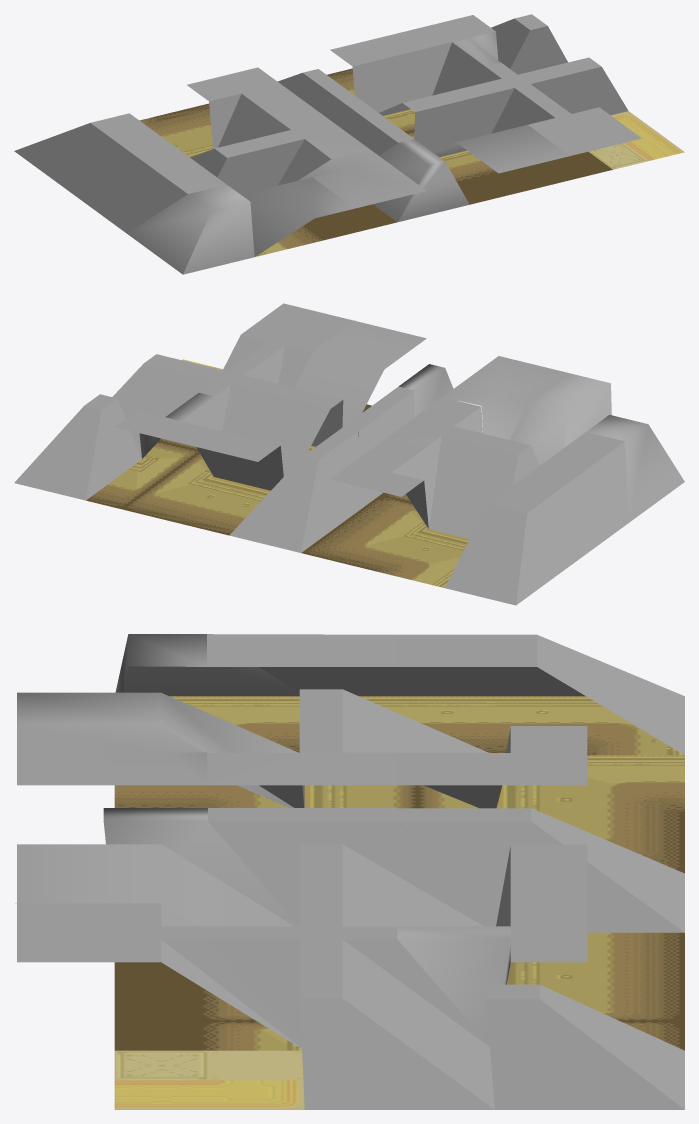
File: WallMeshes.fbx
3 renders of one model, top to bottom at view 1: azimuth 30°, elevation 25°; view 2: azimuth 150°, elevation 25°; view 3: azimuth 270°, elevation 25°, orthographic. The views are drawn at different scales.
Parts seen in each view (by area): view 1: WallMesh_Grid, WallMesh_LowerCorner, WallMesh_SideWall, Wallmesh_UpperCorner, WallMesh_UpperInvertedCorner, WallMesh_UpperWall, WallMesh_SideWall1XConnector, WallMesh_UpperWall1XConnector, WallMesh_UpperCorner, WallMesh_Lower1XEnd, WallMesh_4Way1X, WallMesh_Horizontal1X (+8 smaller); view 2: WallMesh_Grid, Wallmesh_UpperCorner, WallMesh_Upper1XEnd, WallMesh_Single1X, WallMesh_SideWall, WallMesh_LowerWall, WallMesh_Left1XEnd, WallMesh_Horizontal1X, WallMesh_SideWall1XConnector, WallMesh_UpperCorner, WallMesh_LowerWall1XConnector, WallMesh_LowerInvertedCorner (+8 smaller); view 3: WallMesh_Grid, WallMesh_Right1XEnd, WallMesh_Single1X, WallMesh_Upper1XEnd, WallMesh_4Way1X, Wallmesh_UpperCorner, WallMesh_LowerWall1XConnector, WallMesh_LowerWall, WallMesh_Vertical1X, WallMesh_UpperWall1XConnector, WallMesh_SideWall, WallMesh_LowerInvertedCorner (+8 smaller).
Boxes of the visible parts, x1,y1,x2,y2 form: WallMesh_Grid: [139, 68, 684, 256]; WallMesh_LowerCorner: [127, 185, 254, 274]; WallMesh_SideWall: [70, 143, 226, 233]; Wallmesh_UpperCorner: [14, 113, 170, 192]; WallMesh_UpperInvertedCorner: [187, 67, 313, 148]; WallMesh_UpperWall: [330, 32, 428, 112]; WallMesh_SideWall1XConnector: [236, 108, 370, 187]; WallMesh_UpperWall1XConnector: [402, 15, 501, 96]; WallMesh_UpperCorner: [245, 177, 354, 256]; WallMesh_Lower1XEnd: [373, 139, 469, 221]; WallMesh_4Way1X: [449, 63, 558, 134]; WallMesh_Horizontal1X: [379, 85, 486, 152]; WallMesh_Grid: [86, 359, 482, 587]; Wallmesh_UpperCorner: [444, 473, 572, 605]; WallMesh_Upper1XEnd: [229, 427, 357, 552]; WallMesh_Single1X: [14, 394, 141, 500]; WallMesh_SideWall: [530, 432, 628, 563]; WallMesh_LowerWall: [294, 321, 426, 426]; WallMesh_Left1XEnd: [429, 434, 539, 539]; WallMesh_Horizontal1X: [236, 382, 343, 476]; WallMesh_SideWall1XConnector: [386, 397, 486, 528]; WallMesh_UpperCorner: [510, 373, 611, 465]; WallMesh_LowerWall1XConnector: [223, 303, 355, 387]; WallMesh_LowerInvertedCorner: [443, 356, 569, 439]; WallMesh_Grid: [114, 696, 684, 1109]; WallMesh_Right1XEnd: [299, 962, 494, 1109]; WallMesh_Single1X: [486, 984, 684, 1109]; WallMesh_Upper1XEnd: [397, 808, 684, 932]; WallMesh_4Way1X: [207, 903, 489, 1047]; Wallmesh_UpperCorner: [397, 634, 684, 754]; WallMesh_LowerWall1XConnector: [15, 903, 301, 1048]; WallMesh_LowerWall: [17, 844, 293, 926]; WallMesh_Vertical1X: [208, 808, 488, 926]; WallMesh_UpperWall1XConnector: [397, 903, 587, 1044]; WallMesh_SideWall: [207, 634, 494, 696]; WallMesh_LowerInvertedCorner: [17, 726, 293, 807].
Size of the model in its own units: 70 by 7.03 by 48.
